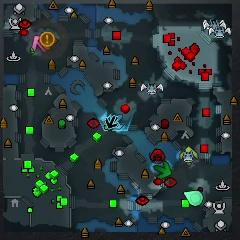p2: (184, 190, 203, 206)
x1: (32, 36, 46, 52)
x2: (180, 146, 198, 165)
x3: (113, 115, 124, 130)
x3Clone: (105, 116, 118, 128)
x4: (154, 161, 171, 178)
